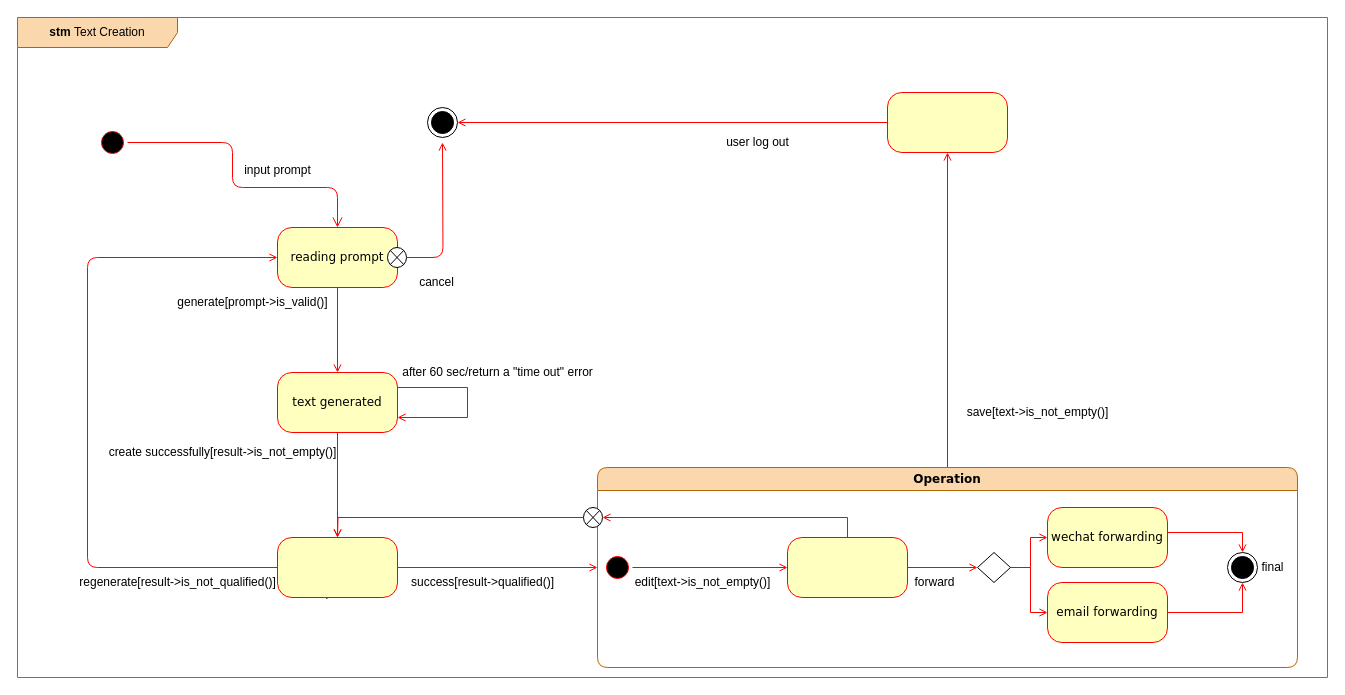
The diagram is 1345 pixels wide and 695 high, and some of its shapes have lost their labels. The shapes that lost their labels are listed below. From the top down, each one's centre as x and y in pixels, then its label:
point (947, 122): archived
point (337, 567): result check
point (847, 567): text editing
